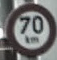Speed limit: (4, 8, 54, 50)
